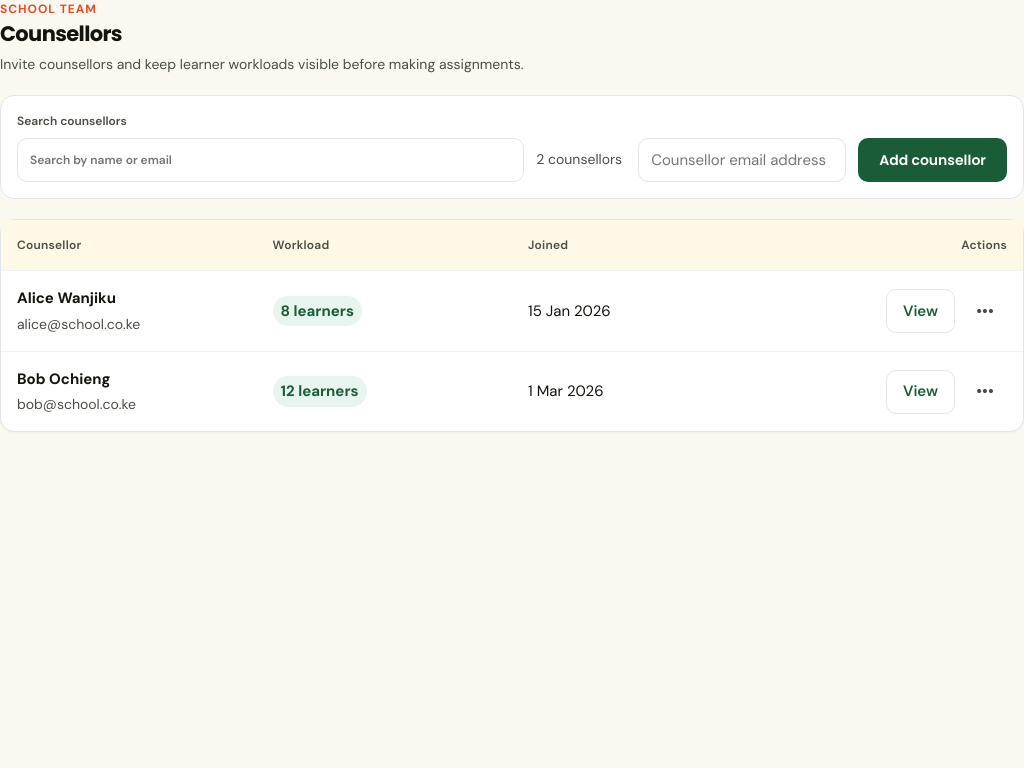
Test: CounselorManagementPage › cancels counsellor removal without sending a request
Expected: the text "Alice Wanjiku" is shown, [17,288,116,308]
Click the button named "More actions for Alice Wanjiku": (985, 311) [963,289,1007,333]
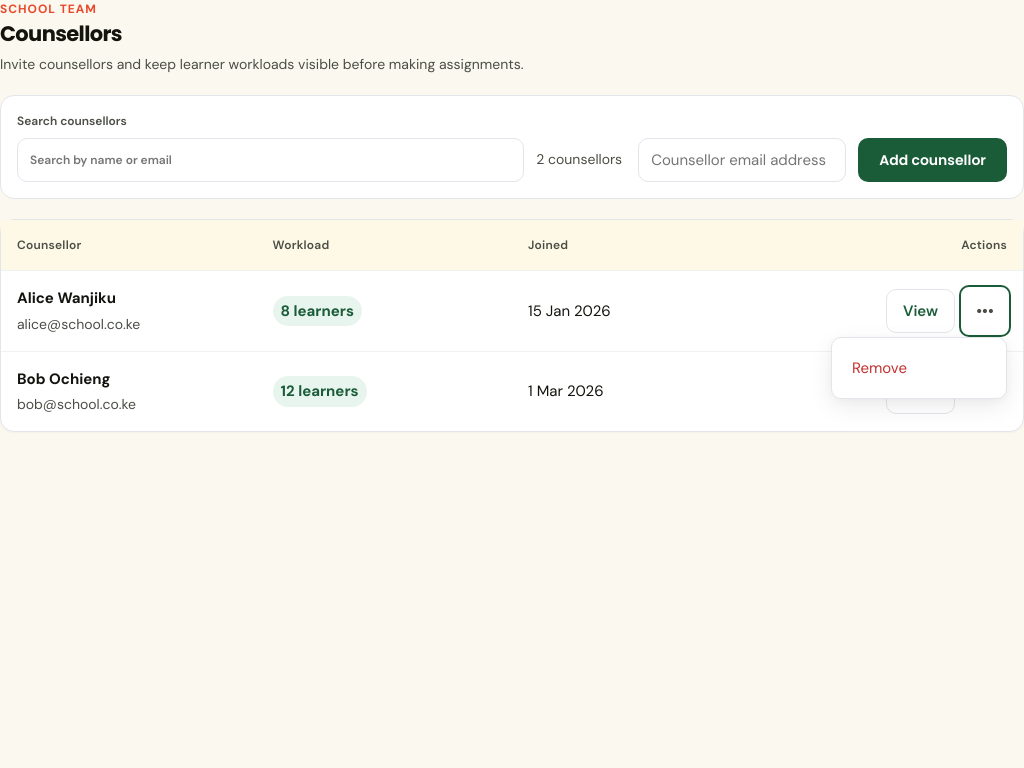
Click the menu item "Remove": (919, 368) [840,346,998,390]
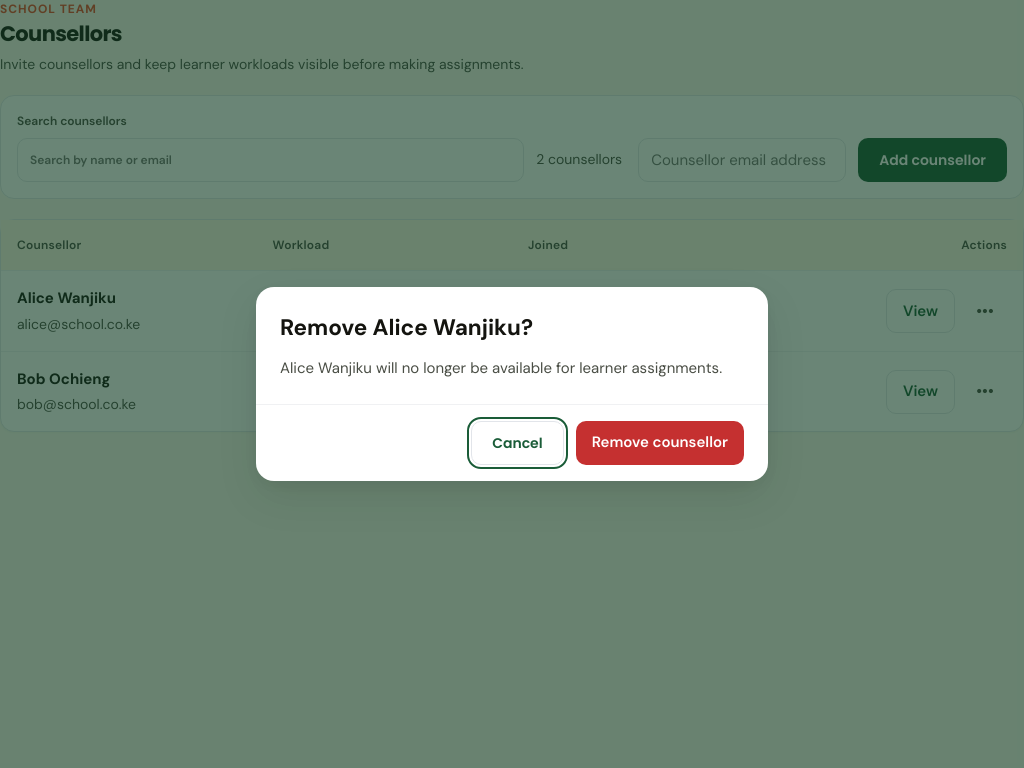
Click the button "Cancel": (517, 443) [471,421,564,465]
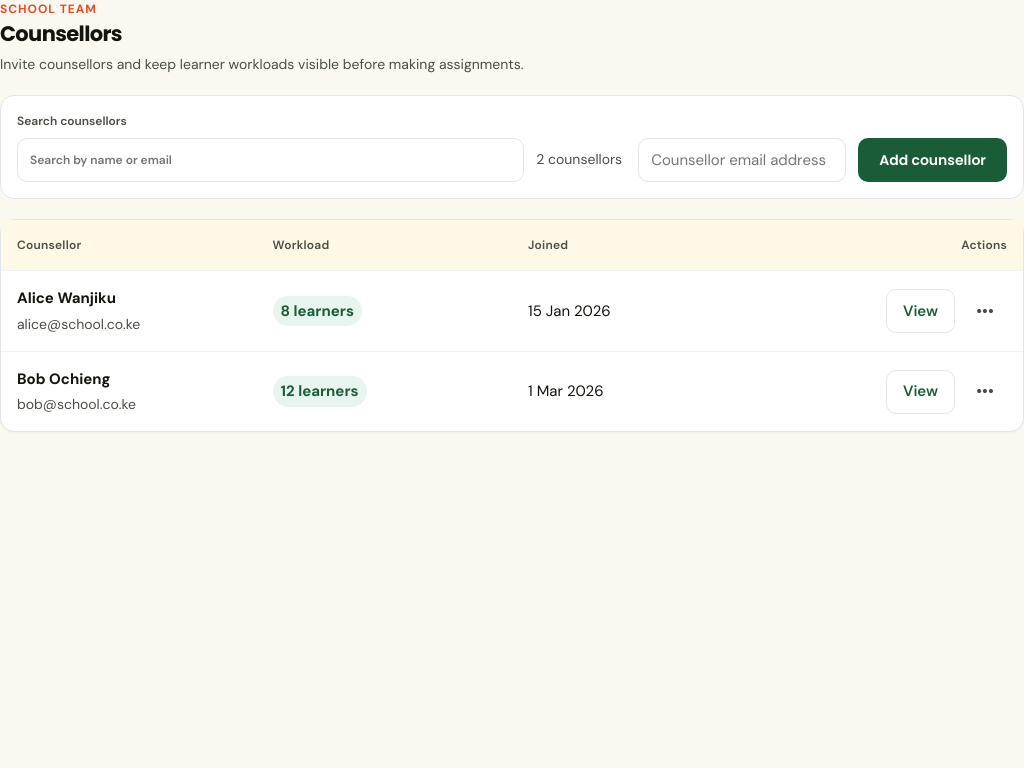
Expected: the heading "Remove Alice Wanjiku?" is gone
